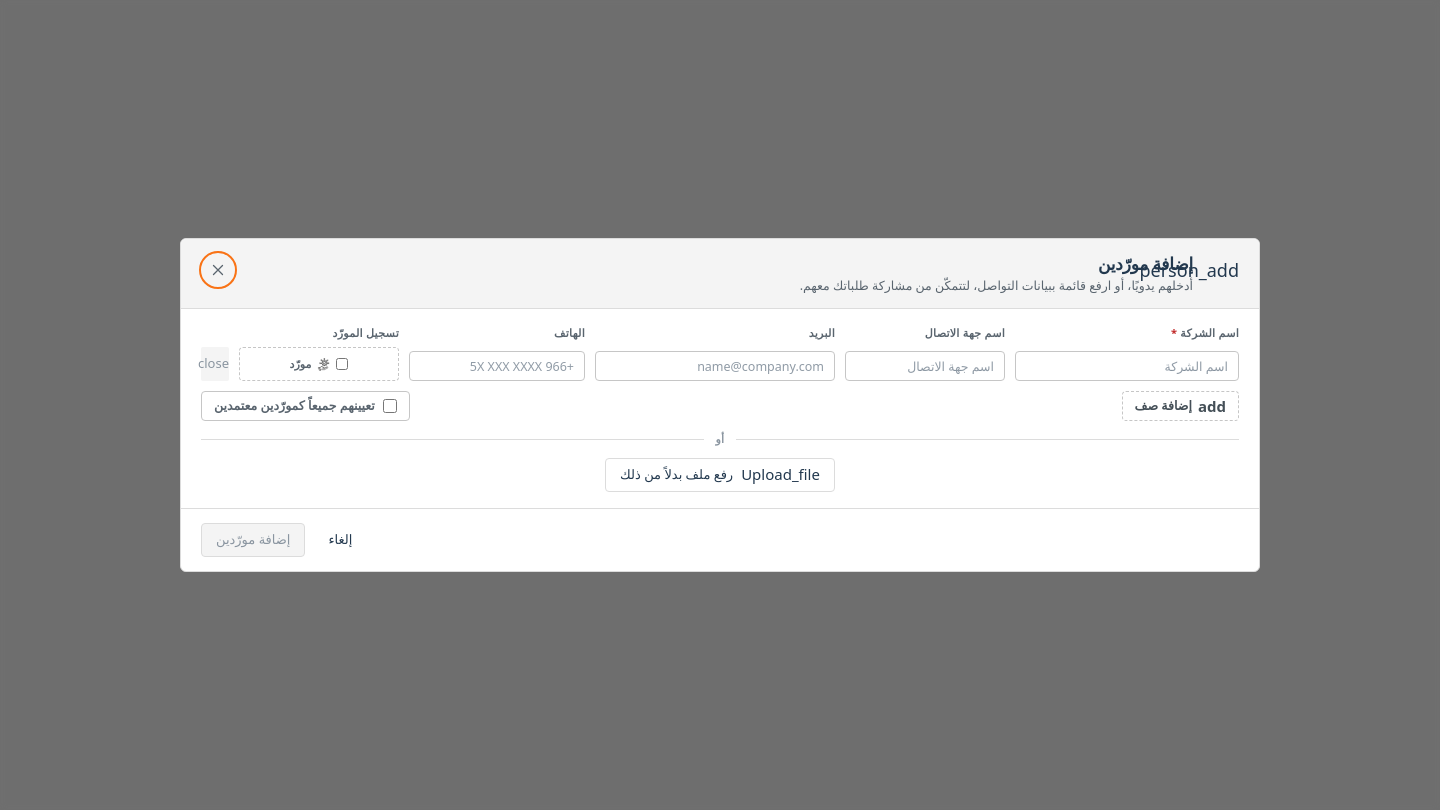
Scenario: a refused add names the refusal › Given Arabic, Then the backend's ARABIC sentence is used
The image size is (1440, 810).
In the field with placeholder "اسم الشركة": (1127, 366) [1015,351,1239,381], type "Al-Faisal Contracting Est."
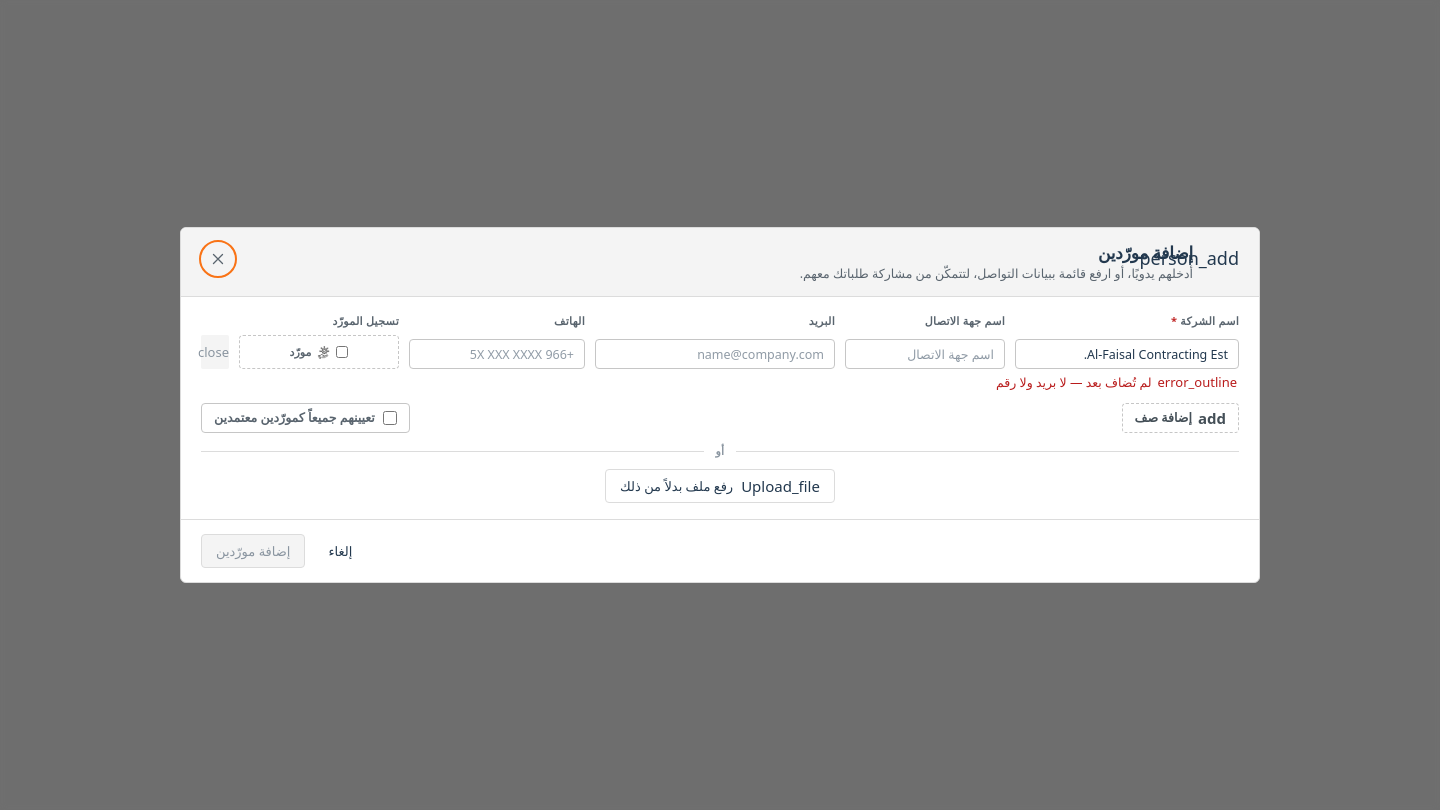
In the field with placeholder "+966 5X XXX XXXX": (497, 354) [409,340,585,370], type "0535869745"
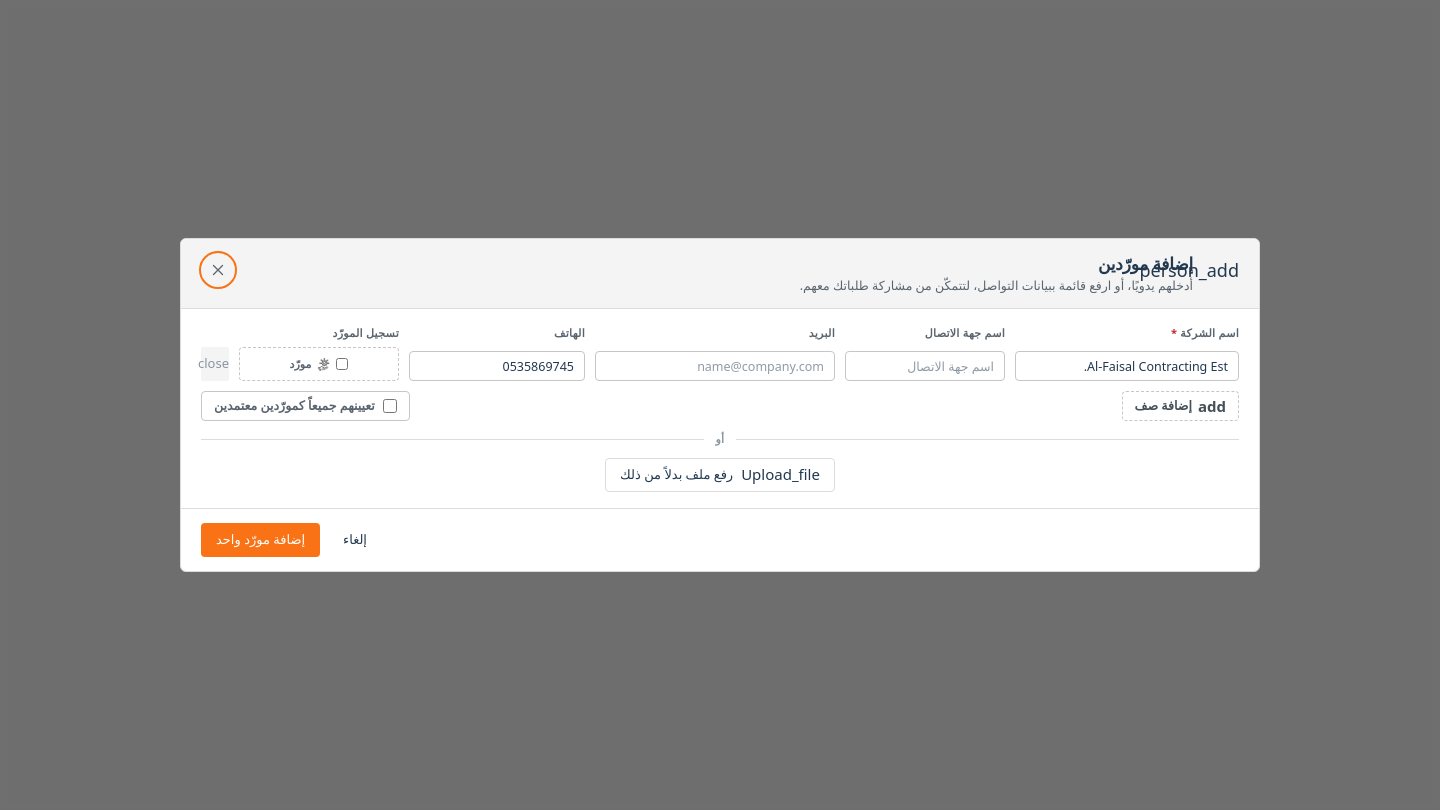
Click the button "إضافة مورّد واحد": click(261, 540) [201,523,320,557]
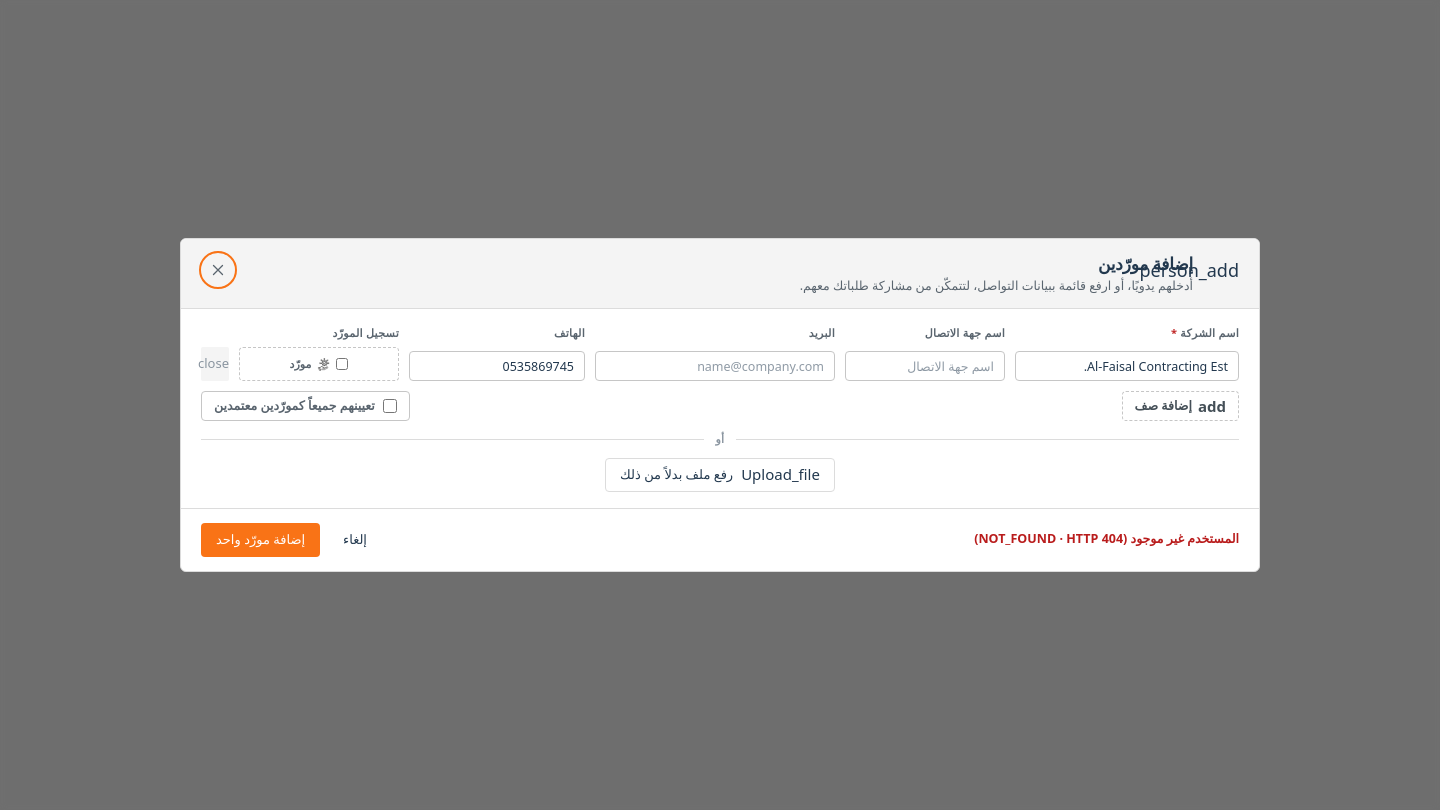
Check: the text "المستخدم غير موجود (NOT_FOUND · HTTP 404)" is shown, box [974,530,1239,549]
